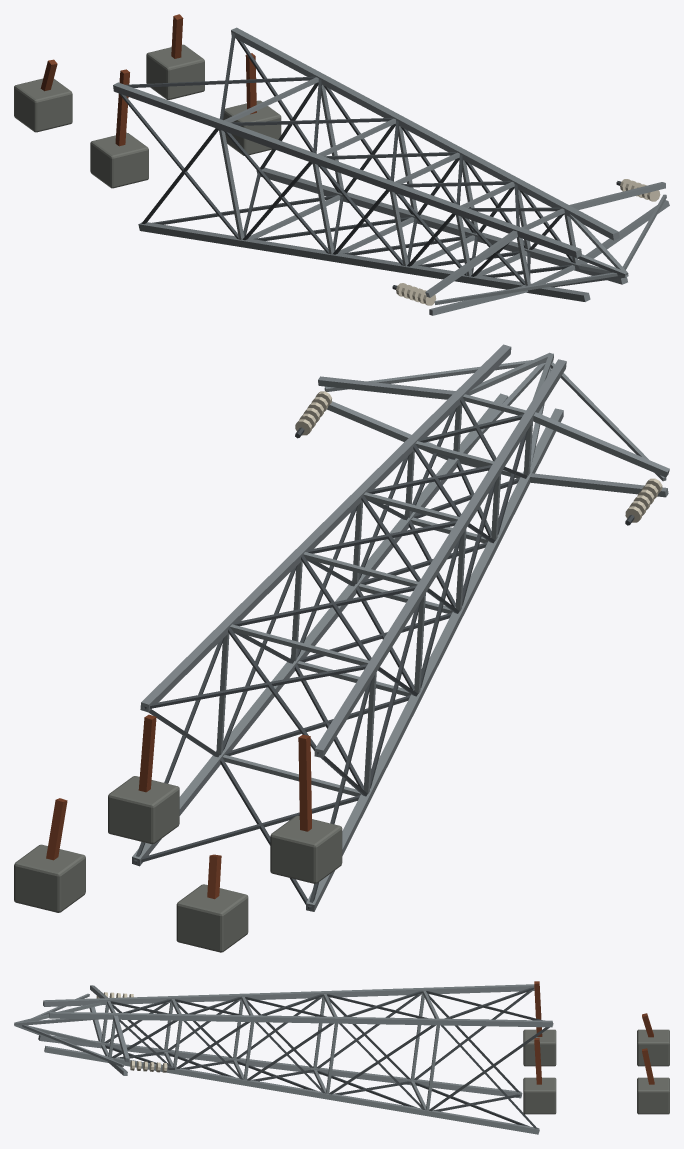
Rendered from prop_pylon_down.glb.
3 renders of one model, top to bottom at view 1: azimuth 30°, elevation 25°; view 2: azimuth 150°, elevation 25°; view 3: azimuth 270°, elevation 25°, orthographic. The views are drawn at different scales.
Visible parts, largest first — view 1: Fallen_mesh, PylonDown_mesh; view 2: Fallen_mesh, PylonDown_mesh; view 3: Fallen_mesh, PylonDown_mesh.
Part boxes in pixels (left/top/right/bottom): Fallen_mesh: left=113, top=27, right=669, bottom=315; PylonDown_mesh: left=14, top=14, right=281, bottom=188; Fallen_mesh: left=132, top=344, right=669, bottom=911; PylonDown_mesh: left=14, top=714, right=342, bottom=952; Fallen_mesh: left=14, top=984, right=553, bottom=1134; PylonDown_mesh: left=523, top=981, right=669, bottom=1114.
Bounding box in the file's own units: 4.15 × 2.62 × 10.97.
